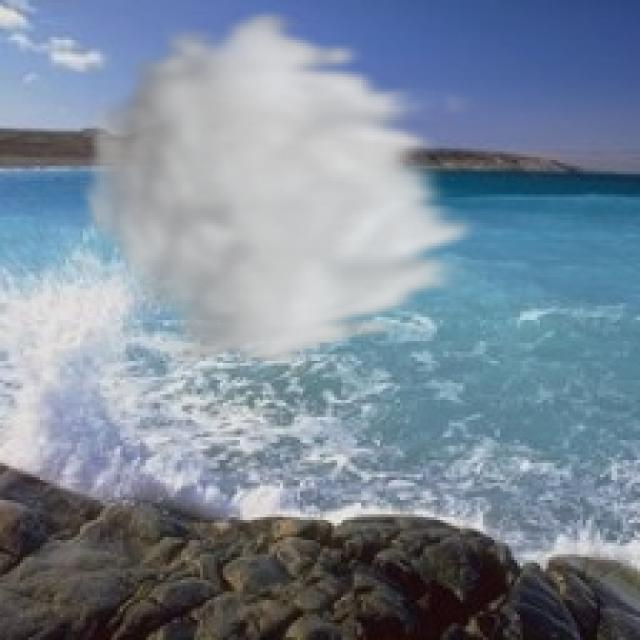smoke: (74, 6, 492, 368)
